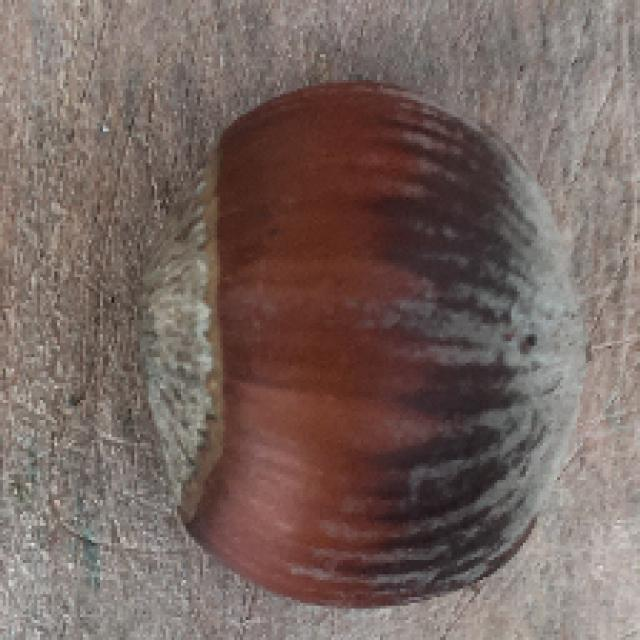DamagedHazelnut: (138, 82, 582, 606)
